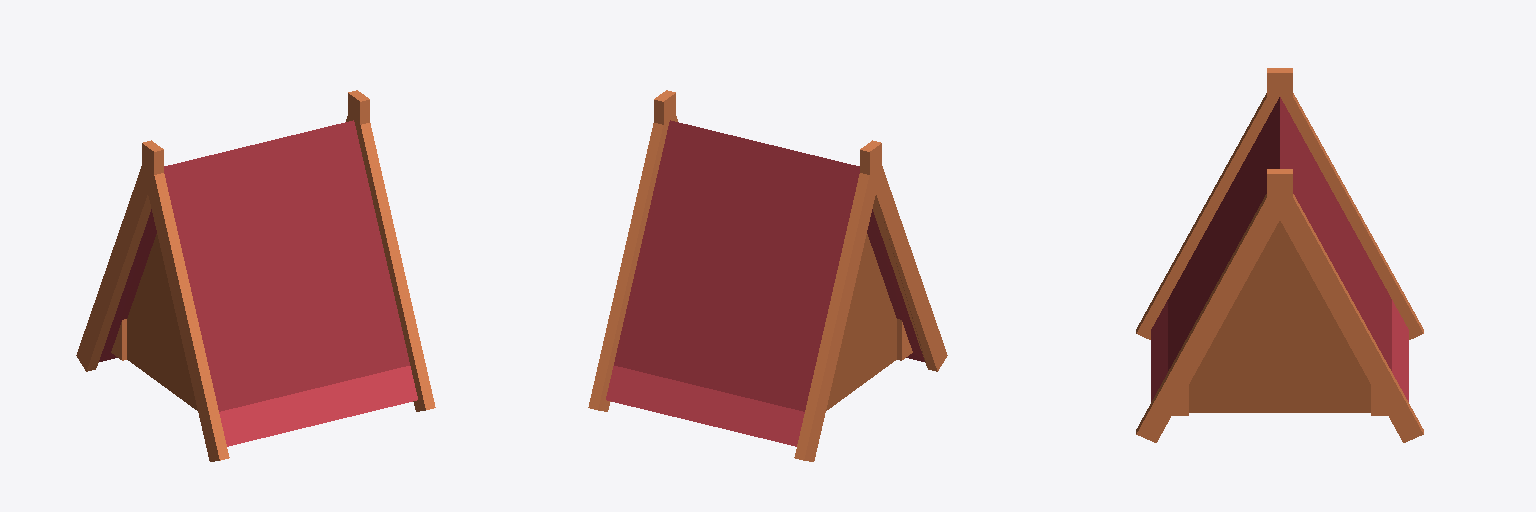
Rendered from roofHighGableDetail.obj.
The picture shows the model from 3 angles: view 1: azimuth 30°, elevation 25°; view 2: azimuth 150°, elevation 25°; view 3: azimuth 270°, elevation 25°; orthographic projection.
Parts seen in each view (by area): view 1: roofHighGableDetail; view 2: roofHighGableDetail; view 3: roofHighGableDetail.
Part boxes in pixels (bbox=[...]): roofHighGableDetail: bbox=[76, 90, 435, 461]; roofHighGableDetail: bbox=[588, 90, 947, 461]; roofHighGableDetail: bbox=[1136, 68, 1423, 442].
Size of the model in its own units: 1.1 by 1.31 by 1.27.